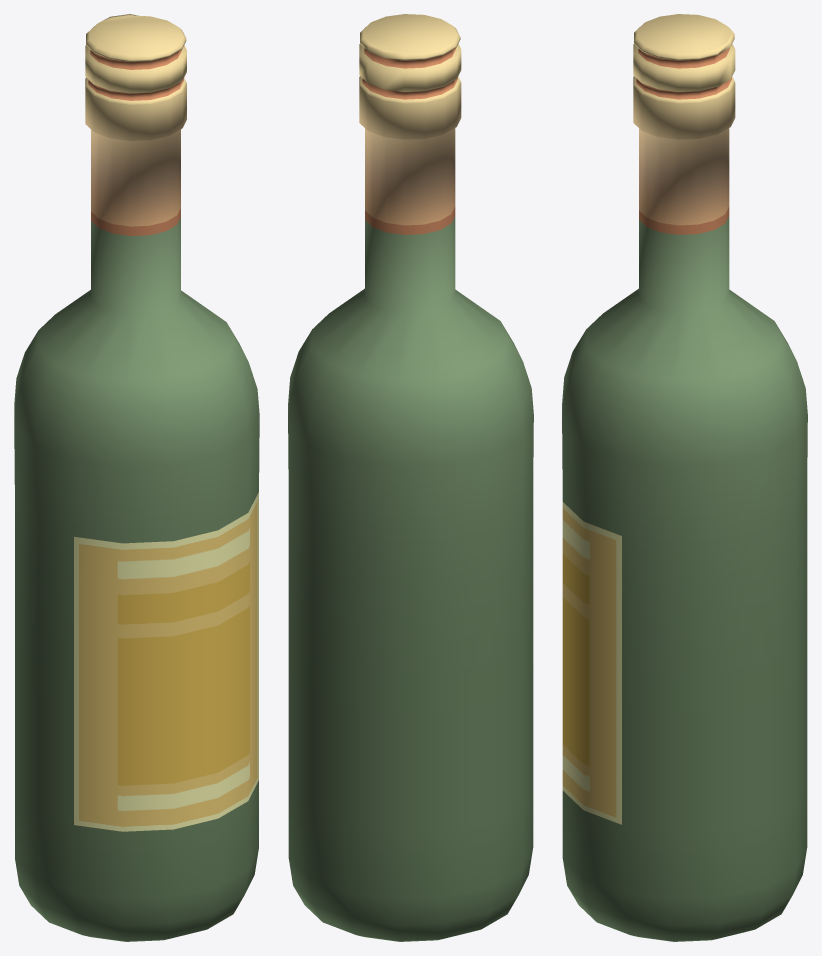
Rendered from winebottle.fbx.
The picture shows the model from 3 angles, left to right: view 1: azimuth 30°, elevation 25°; view 2: azimuth 150°, elevation 25°; view 3: azimuth 270°, elevation 25°; orthographic projection.
Parts seen in each view (by area): view 1: bottle; view 2: bottle; view 3: bottle.
Boxes of the visible parts, x1,y1,x2,y2 form: bottle: [14, 14, 259, 941]; bottle: [288, 14, 533, 941]; bottle: [562, 14, 807, 941].
Size of the model in its own units: 2 by 7.77 by 1.99.
